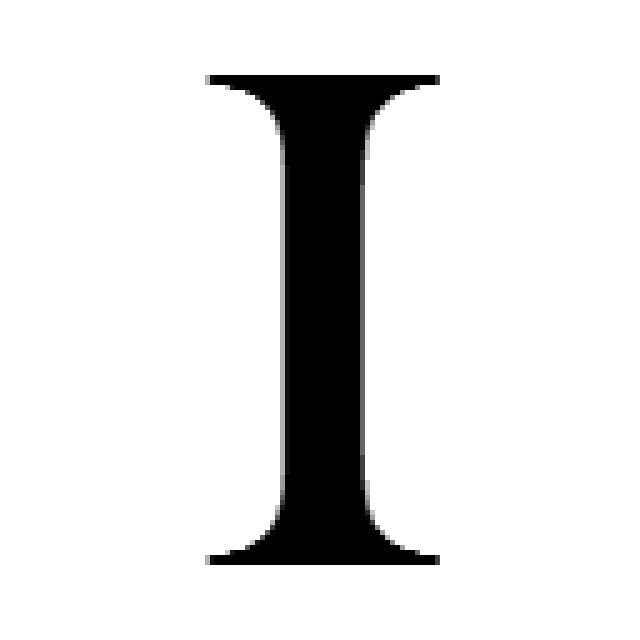I: (205, 75, 440, 570)
